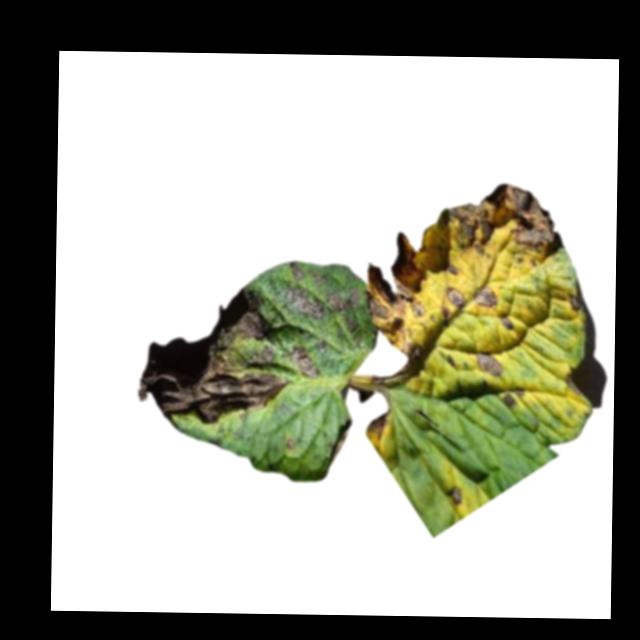Early_blight: (137, 286, 290, 426), (435, 183, 564, 260), (365, 229, 424, 343), (281, 262, 363, 333), (370, 340, 432, 393), (282, 342, 323, 380), (475, 351, 506, 379), (475, 286, 499, 312), (445, 288, 463, 315), (568, 292, 589, 315), (444, 485, 464, 504), (497, 314, 515, 334)
